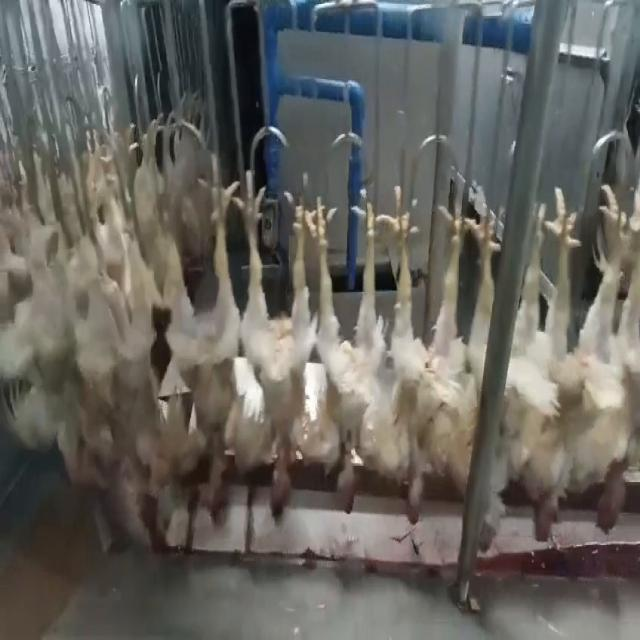chicken: (144, 158, 232, 523), (498, 183, 580, 547), (392, 186, 476, 522), (301, 192, 384, 517), (235, 172, 308, 525), (564, 189, 636, 532)
